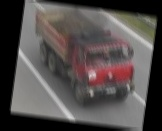truck: (25, 4, 145, 113)
